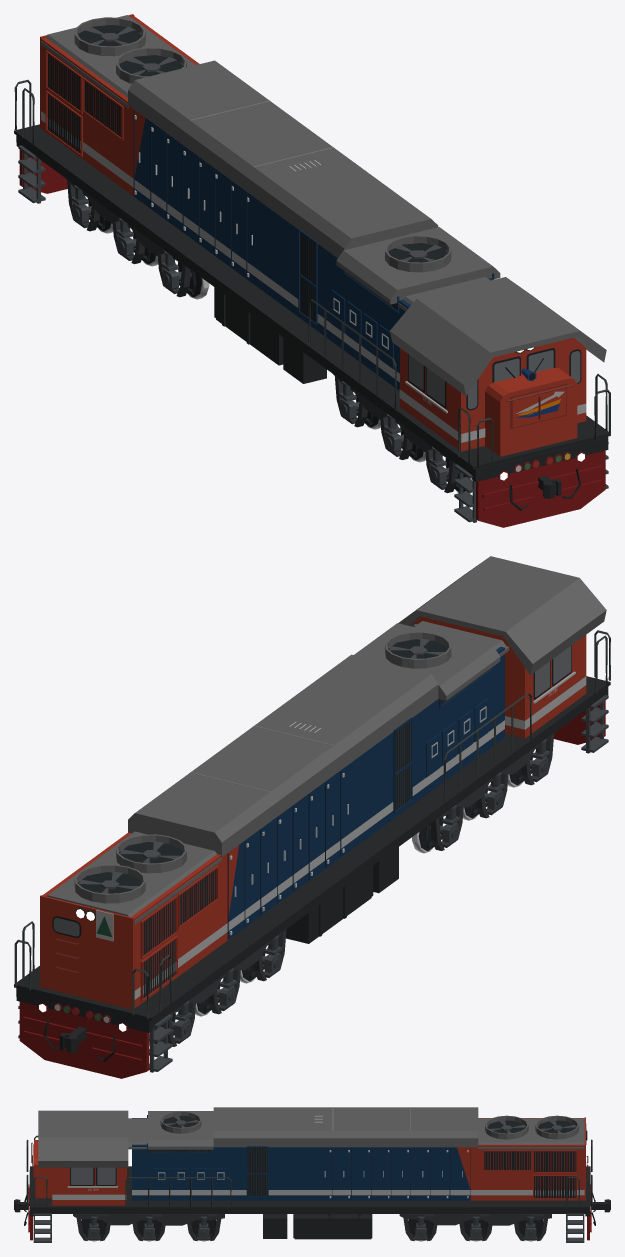
File: cc205-rebuild-medium-packed.glb
3 renders of one model, top to bottom at view 1: azimuth 30°, elevation 25°; view 2: azimuth 150°, elevation 25°; view 3: azimuth 270°, elevation 25°, orthographic. The views are drawn at different scales.
Parts seen in each view (by area): view 1: locomotive-body, rail-bogie--1, rail-bogie-1; view 2: locomotive-body, rail-bogie-1, rail-bogie--1; view 3: locomotive-body, rail-bogie--1, rail-bogie-1, rail-wheel-5-1, rail-wheel-2-1, rail-wheel-3-1, rail-wheel-0-1, rail-wheel-1-1, rail-wheel-4-1.
Boxes of the visible parts, <box> form: locomotive-body: <box>14,14,610,527</box>; rail-bogie--1: <box>65,178,196,297</box>; rail-bogie-1: <box>333,374,463,493</box>; locomotive-body: <box>14,556,610,1078</box>; rail-bogie-1: <box>425,733,554,850</box>; rail-bogie--1: <box>160,929,286,1046</box>; locomotive-body: <box>24,1107,595,1242</box>; rail-bogie--1: <box>399,1214,551,1241</box>; rail-bogie-1: <box>73,1214,224,1241</box>; rail-wheel-5-1: <box>81,1219,109,1241</box>; rail-wheel-2-1: <box>405,1219,432,1241</box>; rail-wheel-3-1: <box>188,1219,216,1241</box>; rail-wheel-0-1: <box>519,1219,546,1241</box>; rail-wheel-1-1: <box>464,1220,491,1241</box>; rail-wheel-4-1: <box>133,1220,160,1241</box>.
Bounding box in the file's own units: 2.86 × 3.56 × 16.93.
